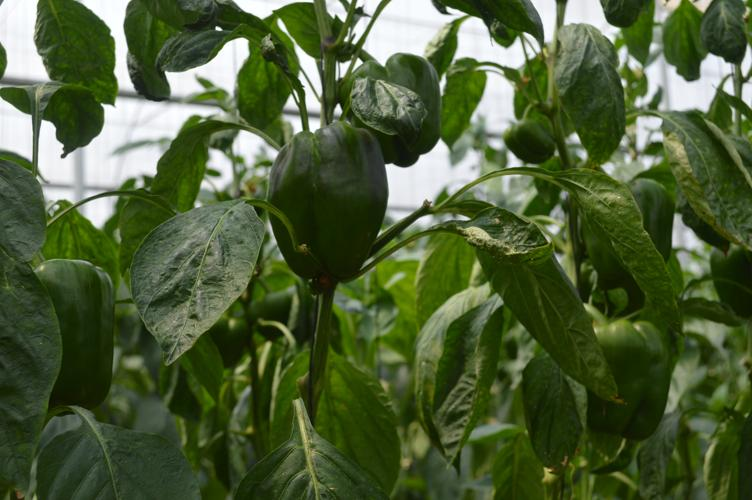BellPepper: (278, 125, 387, 279), (35, 259, 113, 410), (575, 319, 672, 438), (348, 51, 438, 169), (581, 181, 672, 287), (505, 119, 548, 165)
